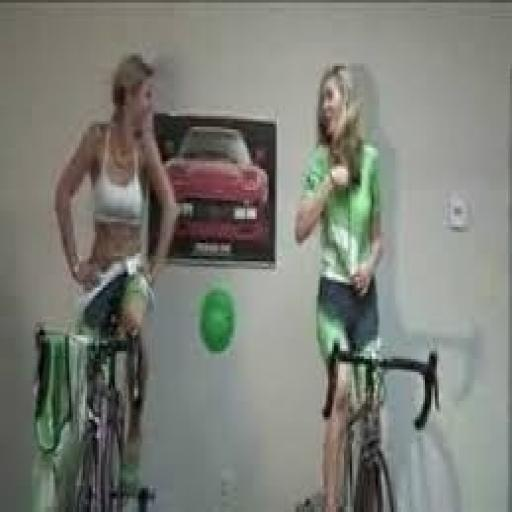cycling: (49, 50, 182, 510), (292, 61, 388, 509)
